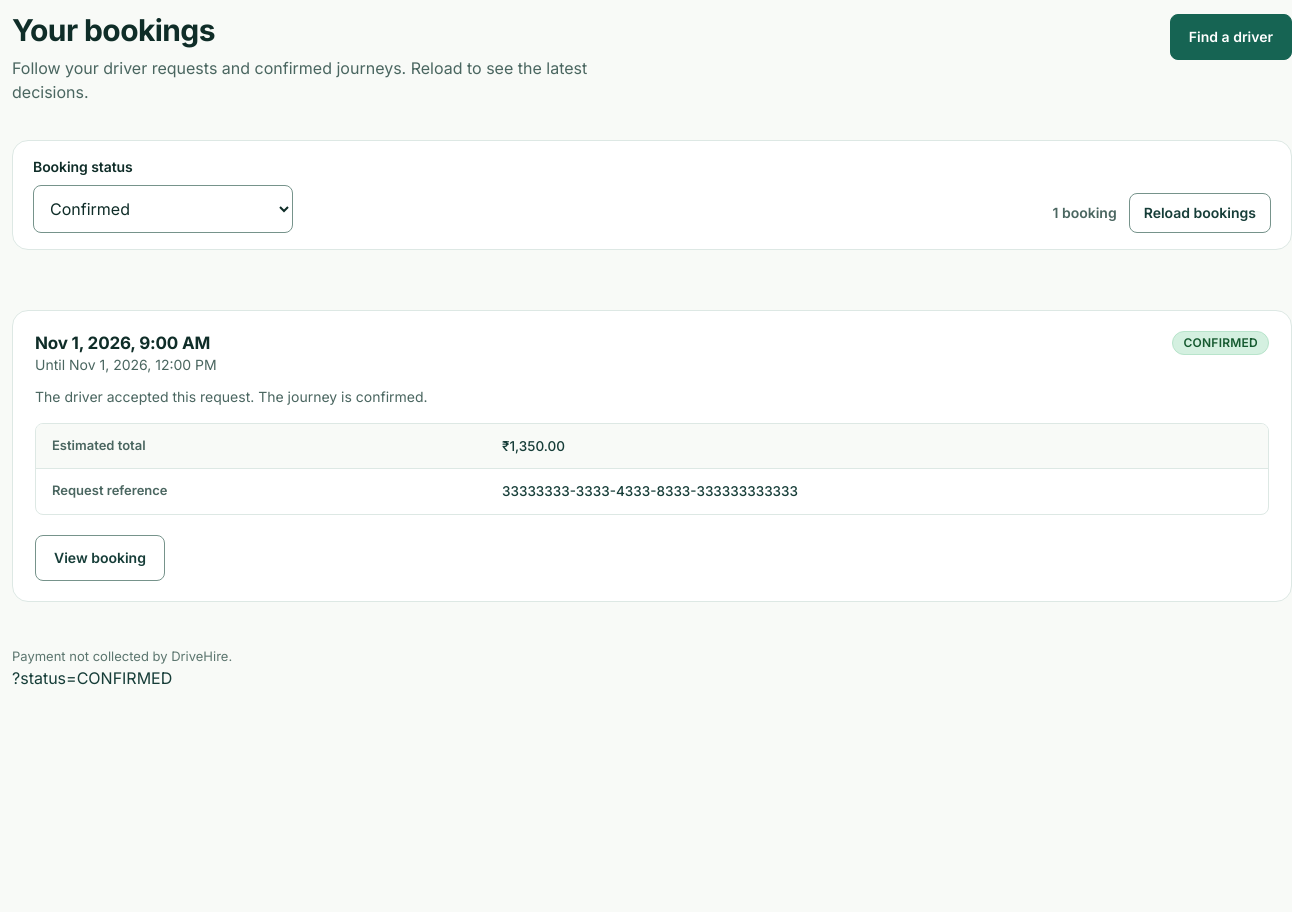
Test: booking list explains human status and keeps the status filter in the URL
Expected: the text "The driver accepted this request. The journey is confirmed." is shown, [35,388,428,405]
Expected: the text "1 booking" is shown, [1052,203,1117,223]
Step 1. Select "Pending" in the dropdown labelled "Booking status" → (163, 209), box [33,185,293,233]
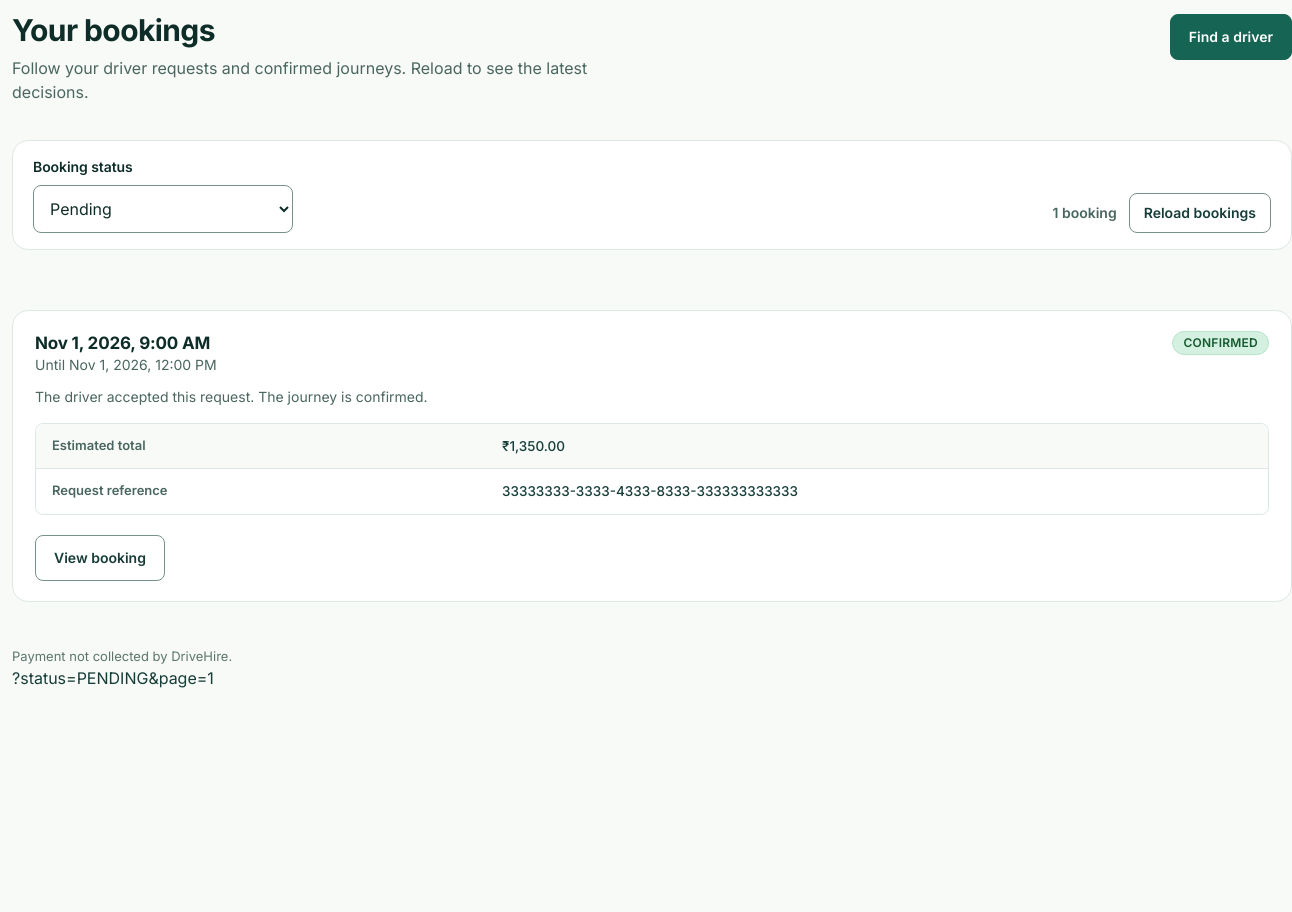
Now the text with test id "location-search" shows "status=PENDING", box [12,668,214,688]
